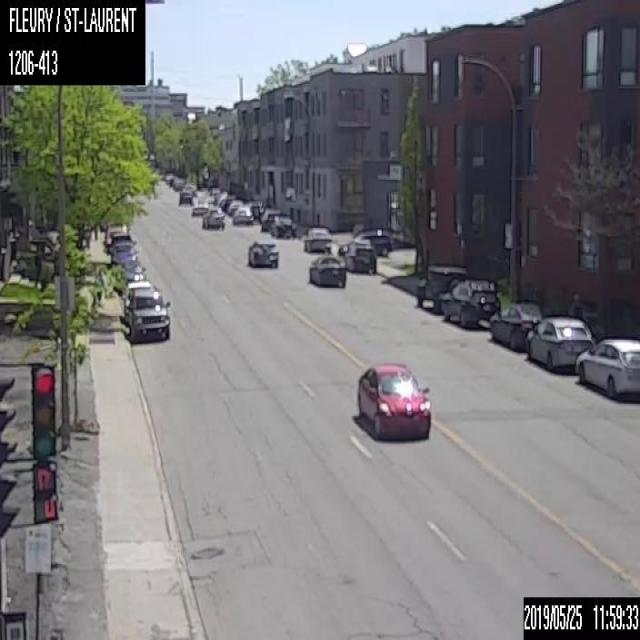pedestrian: (93, 267, 104, 307)
vehicle: (354, 359, 432, 441), (575, 338, 639, 402), (524, 315, 595, 370), (441, 278, 499, 326), (489, 301, 540, 349), (416, 265, 466, 313), (129, 292, 171, 343), (338, 229, 392, 257), (121, 280, 155, 324), (309, 257, 346, 287), (344, 241, 376, 273), (246, 239, 278, 268), (304, 227, 332, 252), (120, 260, 146, 282), (270, 215, 296, 237), (201, 206, 225, 228), (232, 205, 253, 225), (179, 185, 197, 204), (190, 196, 208, 214)
